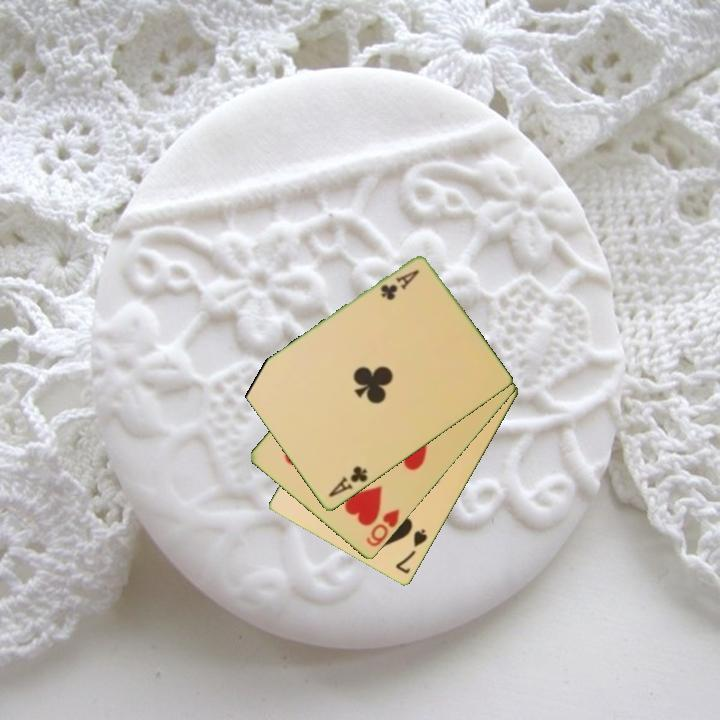6h: (363, 506, 402, 550)
7s: (392, 526, 430, 577)
Ac: (325, 462, 371, 501), (377, 266, 422, 304)
